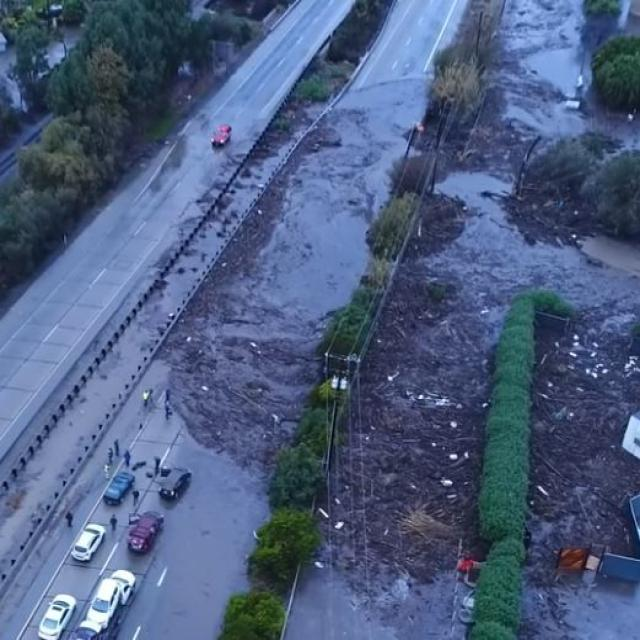traffic_incident: (177, 127, 639, 561)
